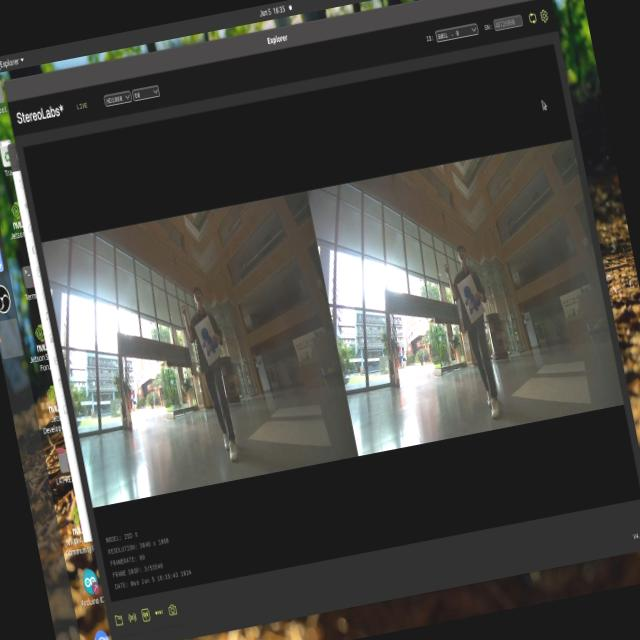blue: (458, 278, 490, 331), (194, 318, 223, 365)
